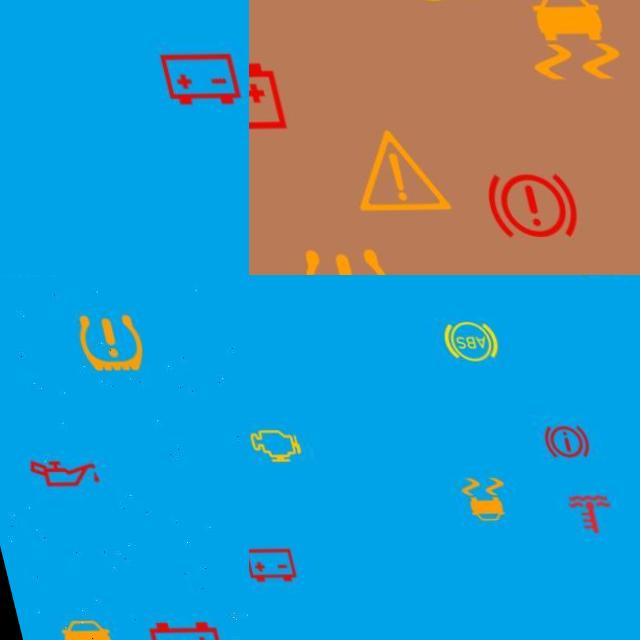High Engine Coolant Temperature: (544, 487, 612, 545)
